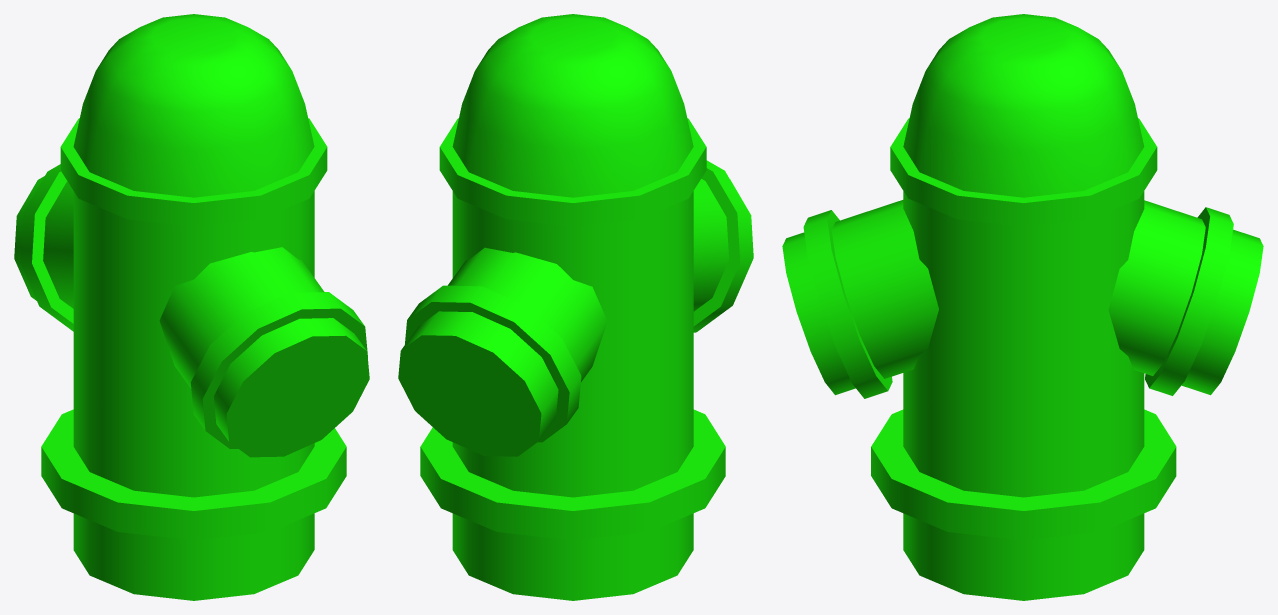
Rendered from M_prop_FireHydrant.FBX.
The picture shows the model from 3 angles, left to right: view 1: azimuth 30°, elevation 25°; view 2: azimuth 150°, elevation 25°; view 3: azimuth 270°, elevation 25°; orthographic projection.
Parts seen in each view (by area): view 1: M_prop_FireHydrant; view 2: M_prop_FireHydrant; view 3: M_prop_FireHydrant.
Part boxes in pixels (<box>): M_prop_FireHydrant: <box>14,14,369,600</box>; M_prop_FireHydrant: <box>398,14,753,600</box>; M_prop_FireHydrant: <box>782,14,1263,600</box>.
Bounding box in the file's own units: 56.97 × 89.78 × 106.
